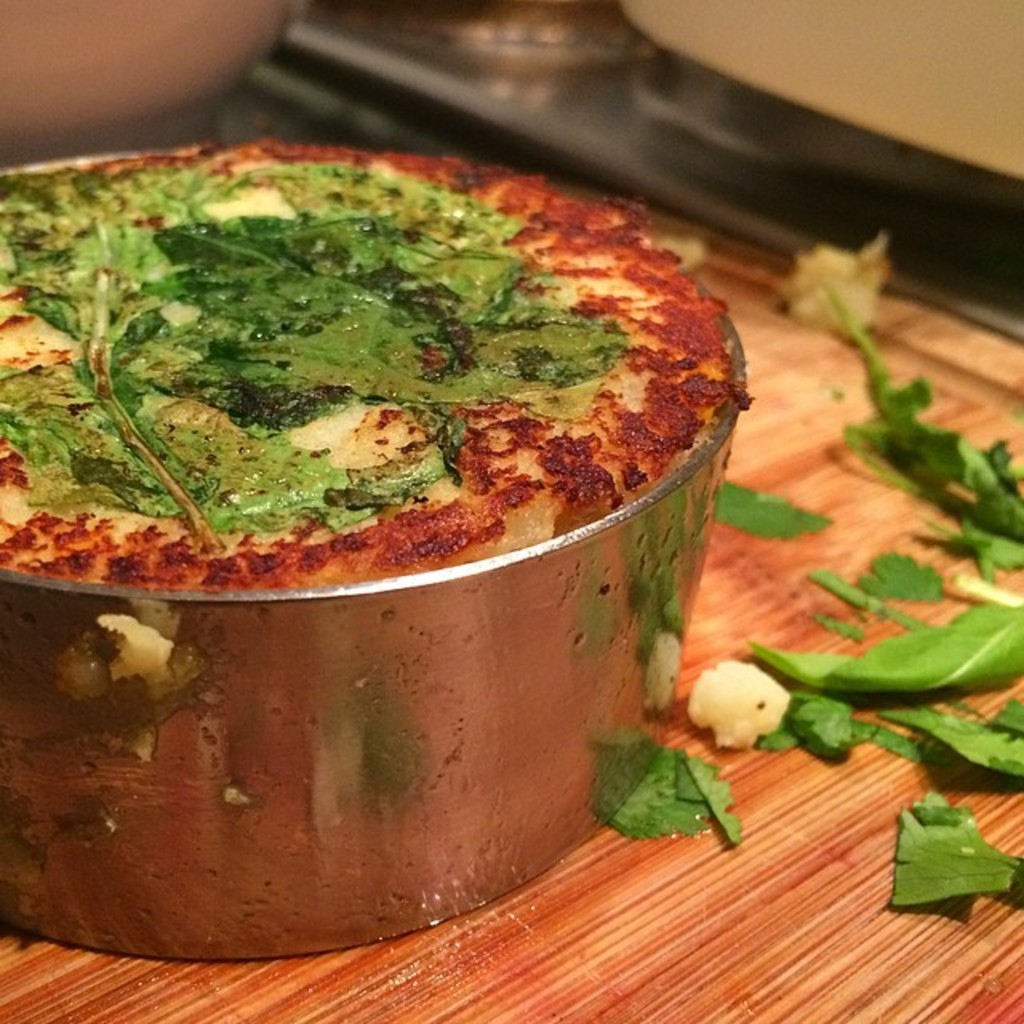Pizza: (0, 124, 760, 593)
